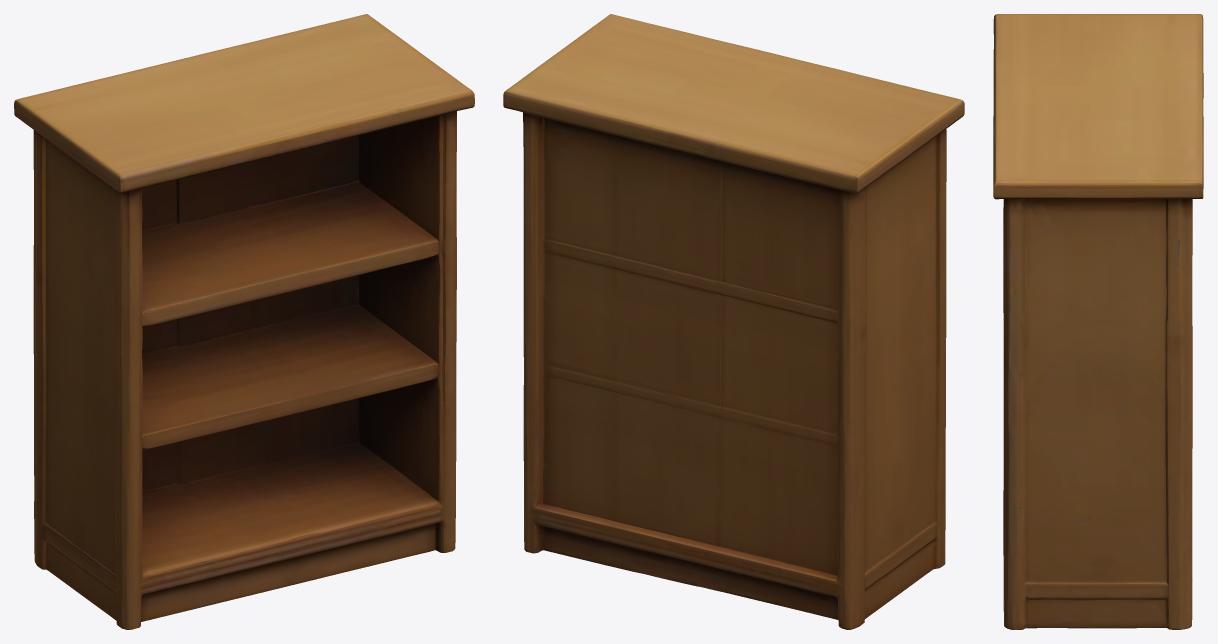
The model's file is bookshelf empty.glb.
The picture shows the model from 3 angles, left to right: view 1: azimuth 30°, elevation 25°; view 2: azimuth 150°, elevation 25°; view 3: azimuth 270°, elevation 25°; orthographic projection. The views are drawn at different scales.
Parts seen in each view (by area): view 1: world; view 2: world; view 3: world.
Boxes of the visible parts, x1=… form: world: x1=14, y1=14, x2=474, y2=629; world: x1=503, y1=14, x2=964, y2=629; world: x1=993, y1=14, x2=1203, y2=629.
Size of the model in its own units: 0.8058 by 1 by 0.4216.
Materials: 1 (1 with a texture image).
